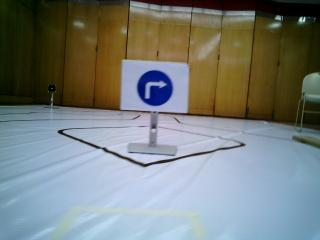right: (127, 65, 181, 109)
